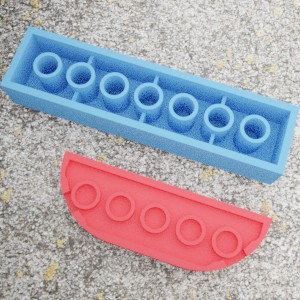lego: (0, 25, 300, 184), (60, 150, 272, 271)
